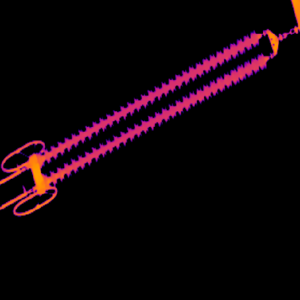insulator: (32, 28, 277, 195)
